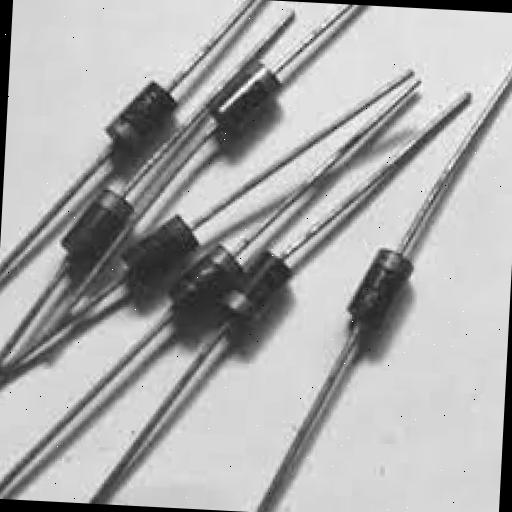DIODE: (0, 0, 512, 512), (328, 224, 450, 394), (197, 56, 309, 196), (44, 167, 132, 302), (117, 188, 195, 335), (226, 234, 306, 374), (88, 76, 186, 178), (166, 233, 246, 338)
